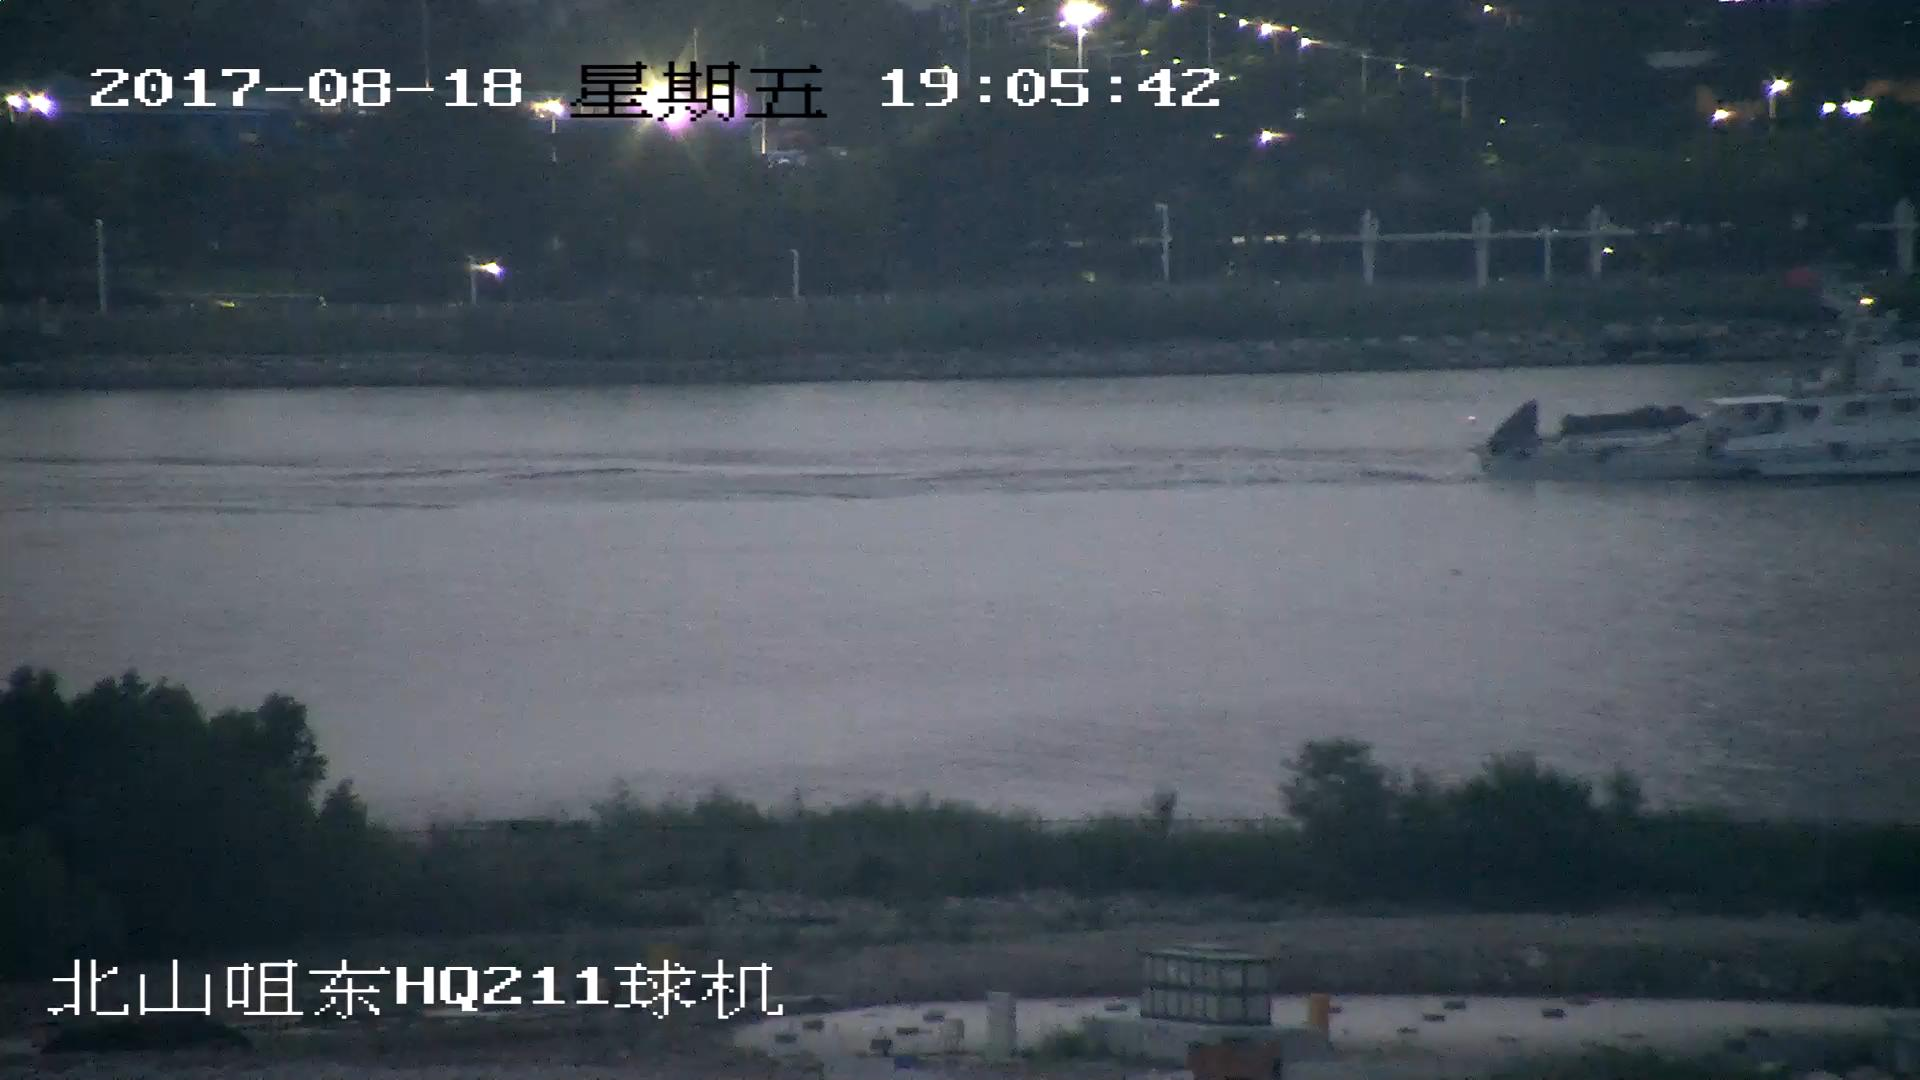passenger ship: (1484, 298, 1920, 480)
